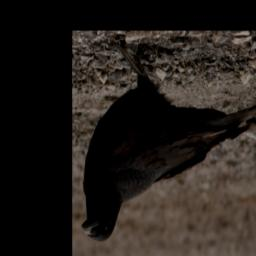Crow: (81, 40, 256, 244)
